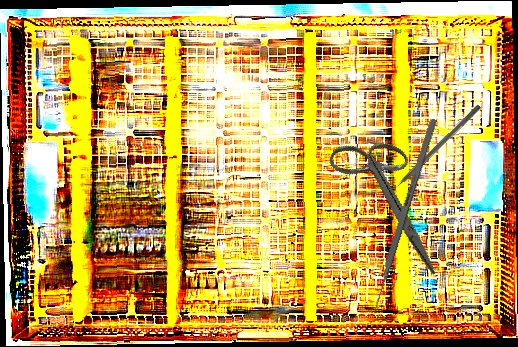Iris Scissors: (303, 123, 478, 275)
Pusher: (367, 117, 438, 323), (382, 103, 482, 200)
